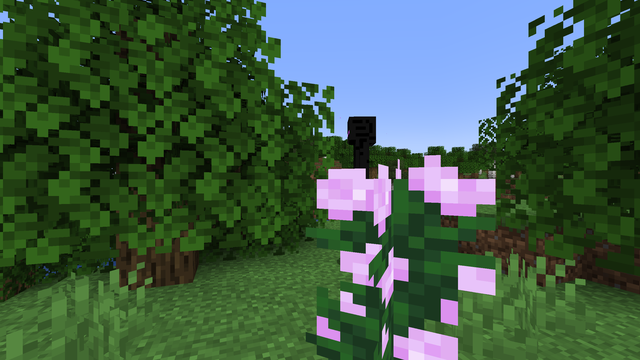endermens: (340, 109, 381, 267)
